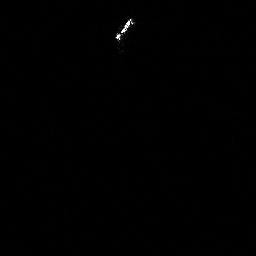ship: (113, 15, 136, 44)
